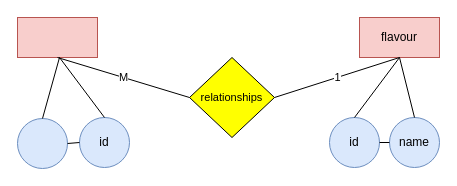
Some shapes in this 457 by 186 pixel diagram are drawn without their labels. The shapes that lost their labels are listed below. From the top down, each one's centre as x and y in pixels, then its label:
(x=57, y=37): vote
(x=42, y=143): email
